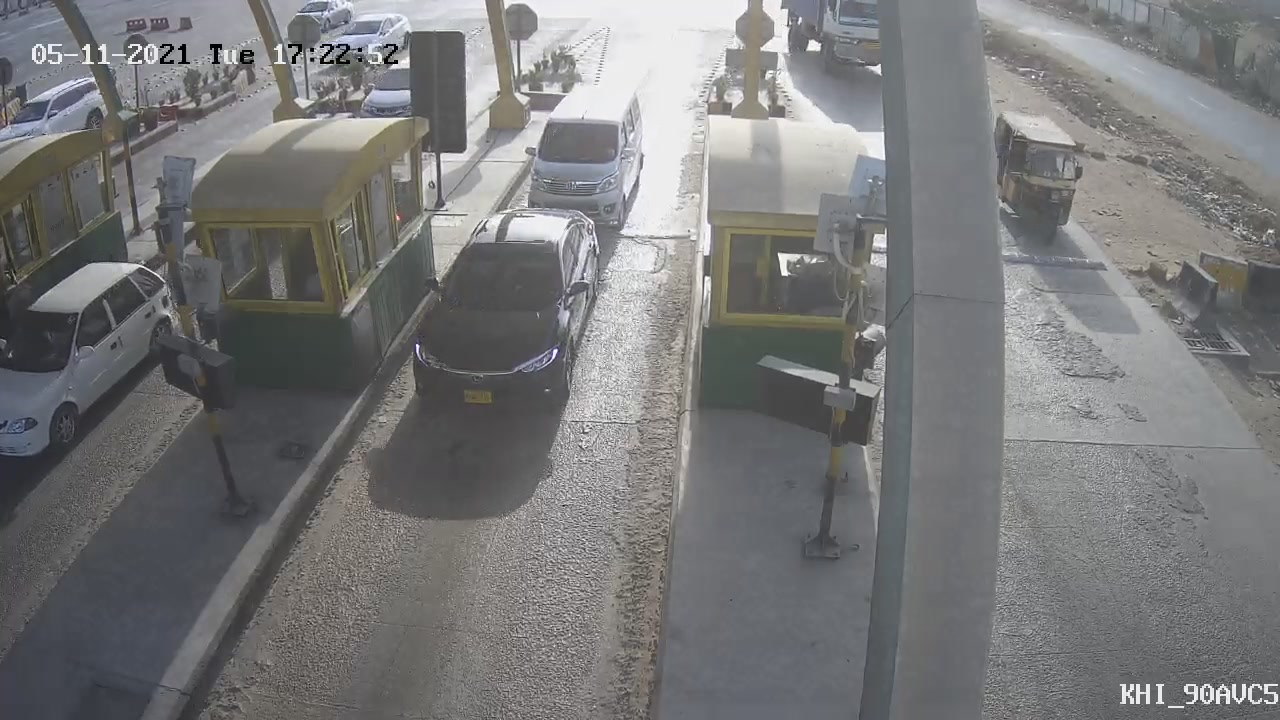F1: (398, 205, 606, 435), (500, 70, 656, 232)
